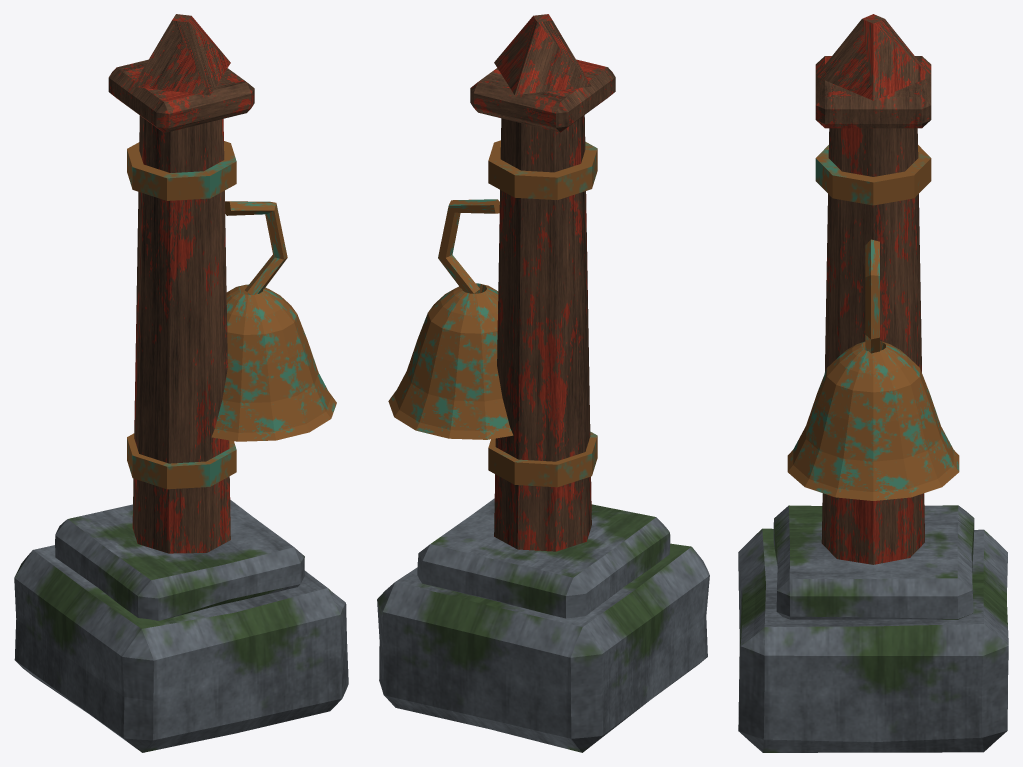
File: Bell_Fence_Post.glb
The picture shows the model from 3 angles, left to right: view 1: azimuth 30°, elevation 25°; view 2: azimuth 150°, elevation 25°; view 3: azimuth 270°, elevation 25°; orthographic projection. The views are drawn at different scales.
Parts seen in each view (by area): view 1: Bell_Fence_Post__Stone, Bell_Fence_Post__Timber, Bell_Fence_Post__Bronze; view 2: Bell_Fence_Post__Stone, Bell_Fence_Post__Timber, Bell_Fence_Post__Bronze; view 3: Bell_Fence_Post__Stone, Bell_Fence_Post__Timber, Bell_Fence_Post__Bronze.
Part boxes in pixels (bbox=[...]): Bell_Fence_Post__Stone: bbox=[14, 500, 348, 752]; Bell_Fence_Post__Timber: bbox=[108, 14, 254, 553]; Bell_Fence_Post__Bronze: bbox=[127, 141, 336, 489]; Bell_Fence_Post__Stone: bbox=[377, 498, 709, 752]; Bell_Fence_Post__Timber: bbox=[470, 14, 615, 551]; Bell_Fence_Post__Bronze: bbox=[388, 140, 597, 487]; Bell_Fence_Post__Stone: bbox=[738, 505, 1008, 752]; Bell_Fence_Post__Timber: bbox=[815, 14, 931, 564]; Bell_Fence_Post__Bronze: bbox=[787, 145, 959, 500].
Bounding box in the file's own units: 2.62 × 6.57 × 2.34.
3 materials, 3 textured.
